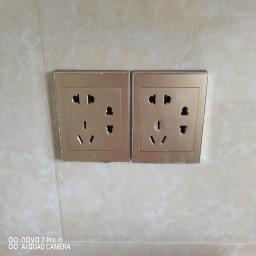outlet: (132, 68, 213, 168), (52, 68, 130, 165)
